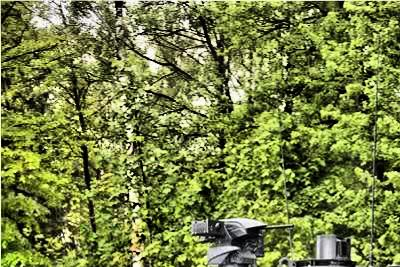tanks: (193, 220, 268, 267), (284, 237, 357, 267)
